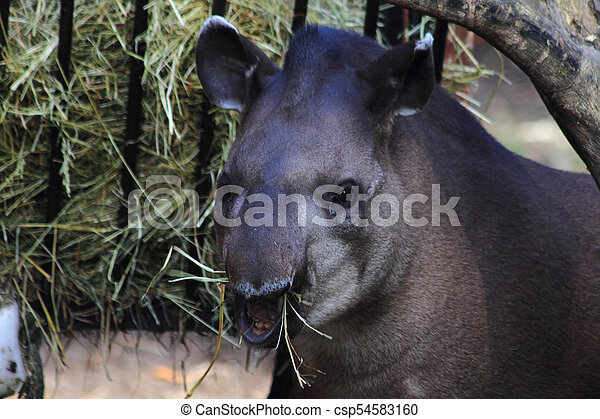Anta: (141, 11, 581, 382)
